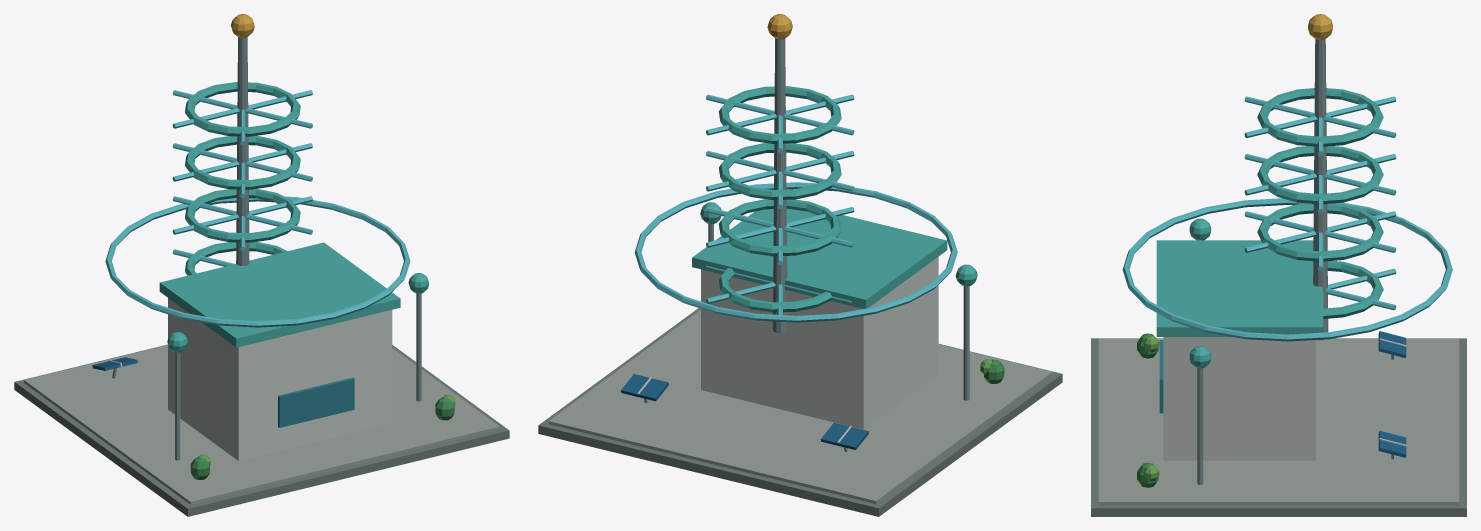
The model's file is uv_station_lv4.glb.
3 renders of one model, left to right at view 1: azimuth 30°, elevation 25°; view 2: azimuth 150°, elevation 25°; view 3: azimuth 270°, elevation 25°, orthographic. The views are drawn at different scales.
Parts seen in each view (by area): view 1: rough, glossy, metallic; view 2: rough, glossy, metallic; view 3: rough, glossy, metallic.
Part boxes in pixels (<box>): rough: <box>14,14,509,516</box>; glossy: <box>105,90,410,427</box>; metallic: <box>92,37,421,460</box>; rough: <box>538,14,1062,516</box>; glossy: <box>634,94,957,322</box>; metallic: <box>621,38,969,451</box>; rough: <box>1091,14,1466,516</box>; glossy: <box>1122,96,1452,413</box>; metallic: <box>1197,39,1406,484</box>.
Size of the model in its own units: 9.2 by 10.53 by 8.6.
